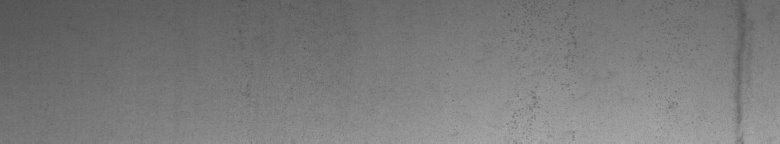ib: (510, 29, 570, 116)
